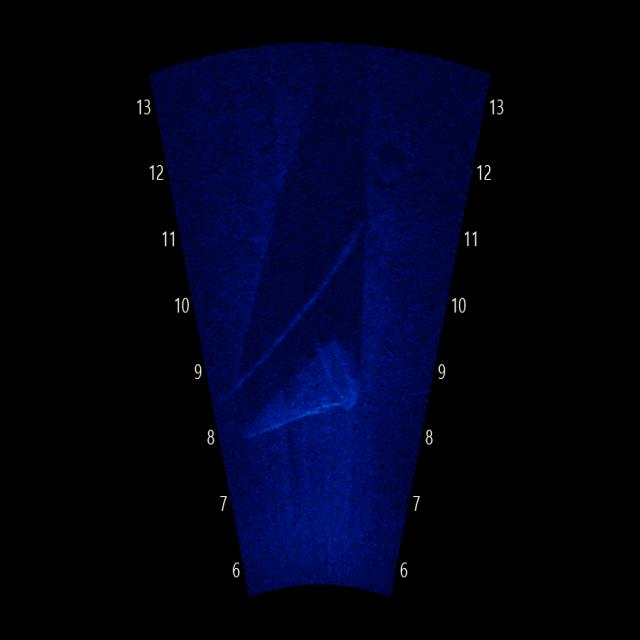triangle: (230, 319, 380, 461)
